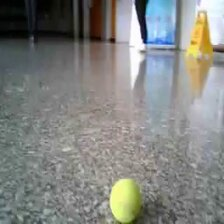tennis: (109, 178, 142, 223)
